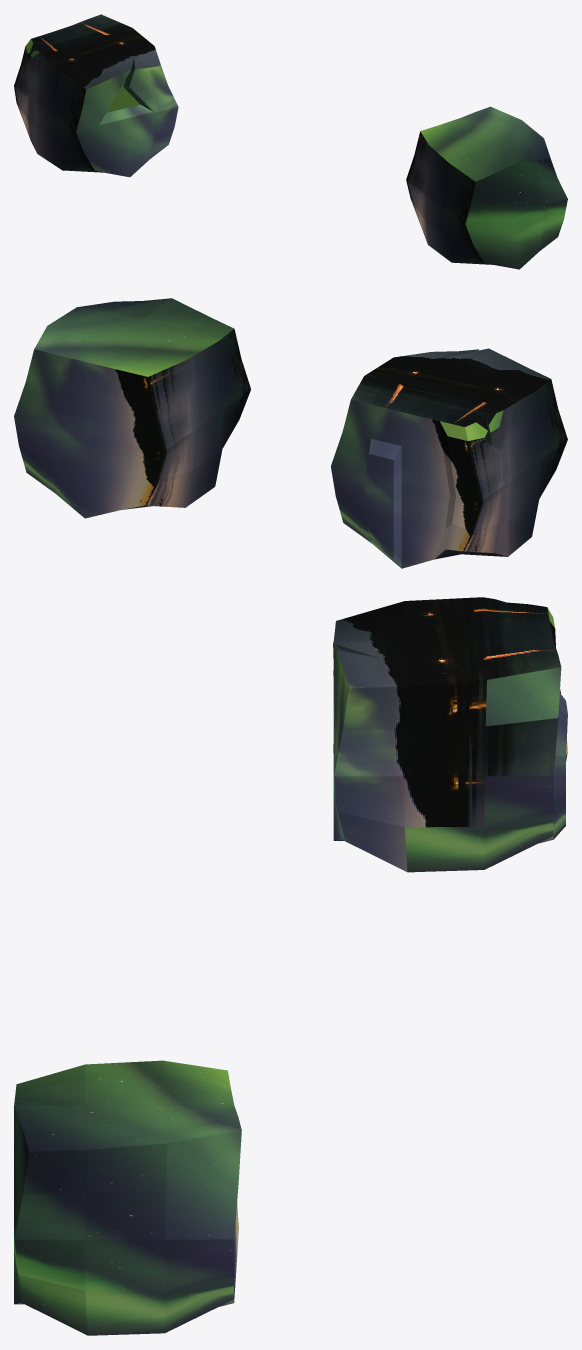
The model's file is ablocklikeatool11-3-2022.glb.
3 views of the same model, one above another, from view 1: azimuth 30°, elevation 25°; view 2: azimuth 150°, elevation 25°; view 3: azimuth 270°, elevation 25° (orthographic). The views are drawn at different scales.
Visible parts, largest first — view 1: Cube.001, Cube; view 2: Cube, Cube.001; view 3: Cube.001, Cube.
Boxes of the visible parts, box(x1,y1,x2,y2) form: Cube.001: box(14, 14, 178, 177); Cube: box(406, 106, 567, 269); Cube: box(14, 298, 250, 518); Cube.001: box(331, 348, 567, 568); Cube.001: box(333, 597, 567, 872); Cube: box(14, 1060, 241, 1335).
Size of the model in its own units: 7.9 by 3.94 by 5.03.
1 material, 1 textured.
